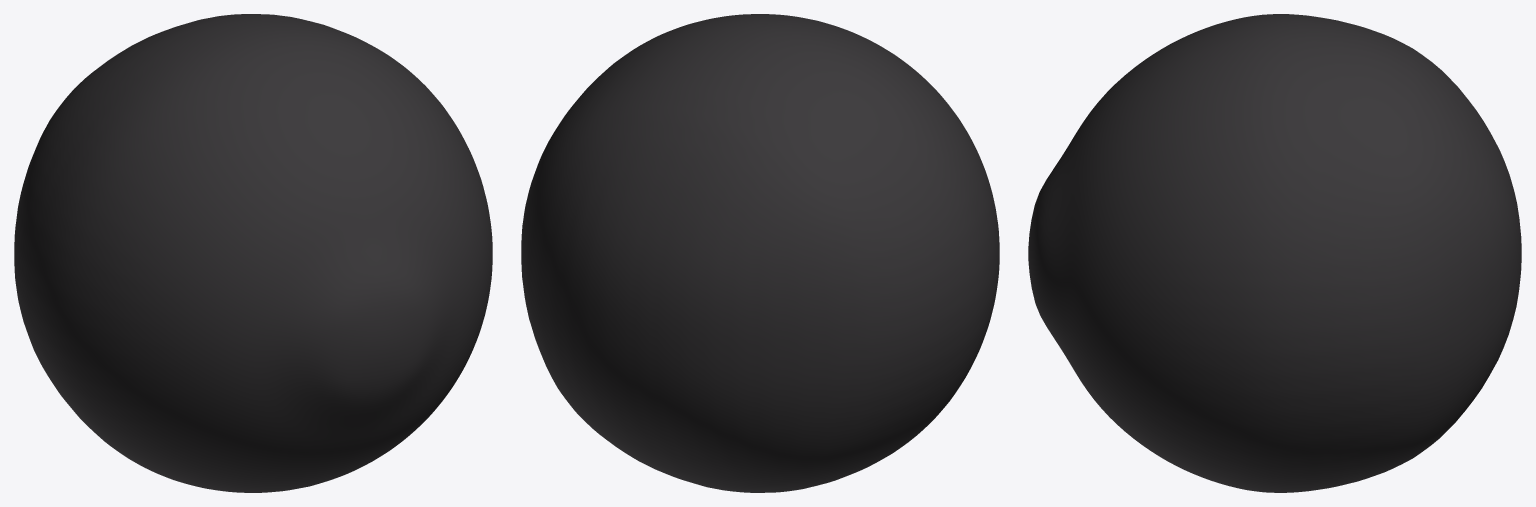
3 renders of one model, left to right at view 1: azimuth 30°, elevation 25°; view 2: azimuth 150°, elevation 25°; view 3: azimuth 270°, elevation 25°, orthographic.
Visible parts, largest first — view 1: Cornea_Mesh; view 2: Cornea_Mesh; view 3: Cornea_Mesh.
Boxes of the visible parts, x1,y1,x2,y2 form: Cornea_Mesh: [14, 14, 492, 492]; Cornea_Mesh: [521, 14, 999, 492]; Cornea_Mesh: [1028, 14, 1521, 492].
Bounding box in the file's own units: 0.3026 × 0.3029 × 0.3116.
3 materials, 3 textured.
